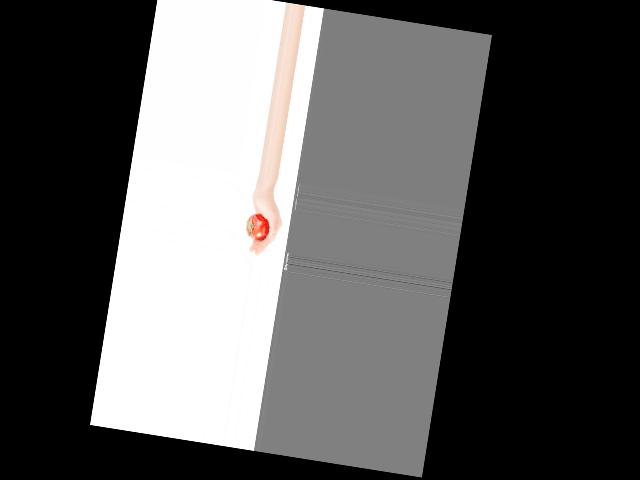tomato: (245, 211, 271, 240)
